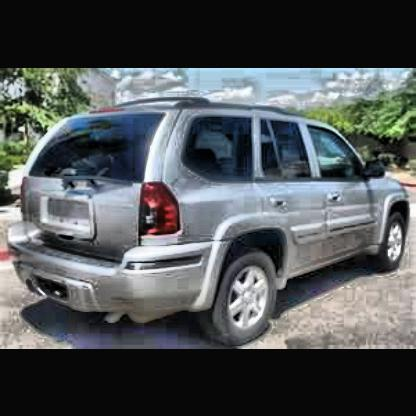Isuzu Ascender SUV 2008: (11, 96, 414, 341)
